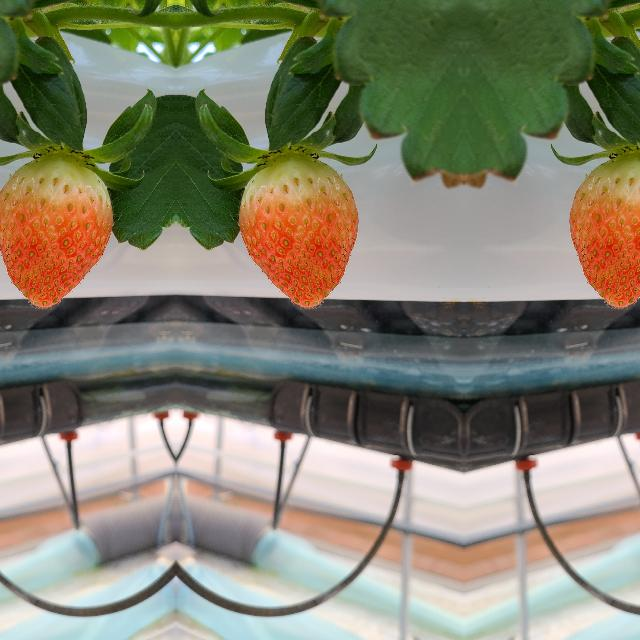Health_75: (234, 160, 358, 310), (0, 159, 116, 310), (568, 159, 640, 310)
